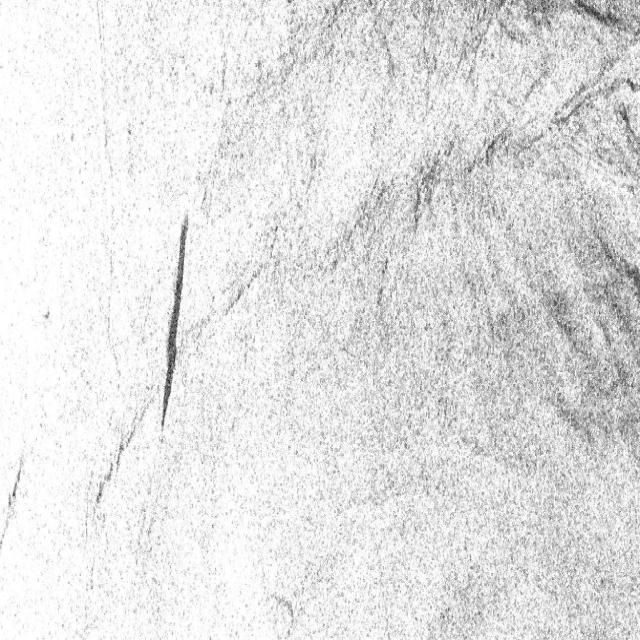look-alike: (311, 1, 637, 137), (541, 206, 639, 462), (383, 139, 450, 230)
oil-spill: (154, 214, 195, 438)
